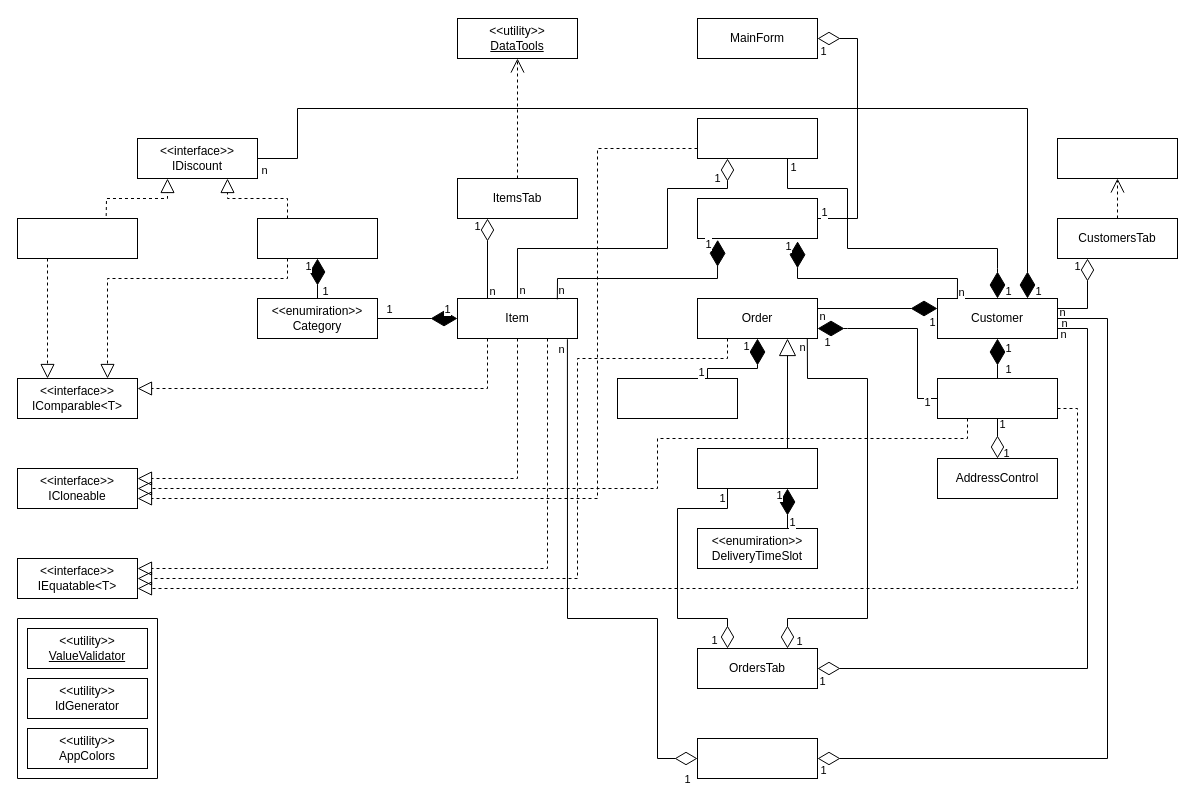
Some shapes in this 1195 by 803 pixel diagram are drawn without their labels. Here are the shapes that lost their labels. From the top down, the centre of each, then its label:
the point at 757,138: Cart
the point at 1117,158: AddDiscountForm
the point at 77,238: PointsDiscount
the point at 317,238: PercentDiscount
the point at 757,218: Store
the point at 677,398: <<enumiration>> OrderStatus
the point at 997,398: Address
the point at 757,468: PriorityOrder
the point at 757,758: CartsTab
